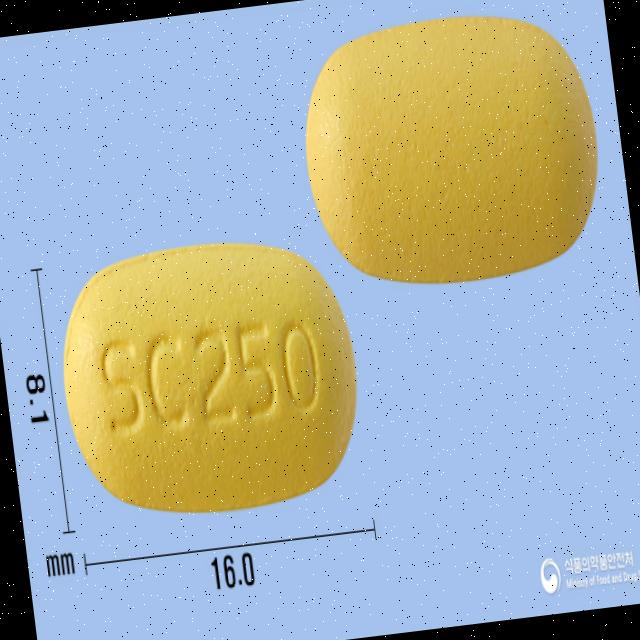Ceclacin: (47, 219, 376, 537), (287, 0, 613, 302)
